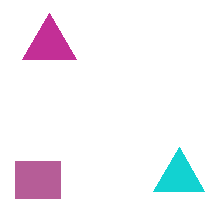rectangle: (15, 161, 60, 198)
triangle: (22, 13, 76, 59), (153, 147, 204, 191)
